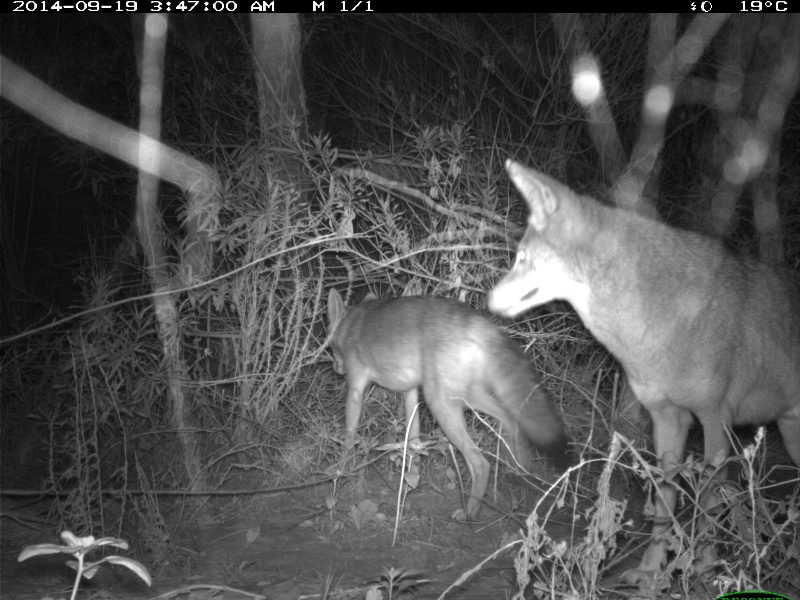coyote: (488, 153, 800, 536), (320, 287, 569, 523)
